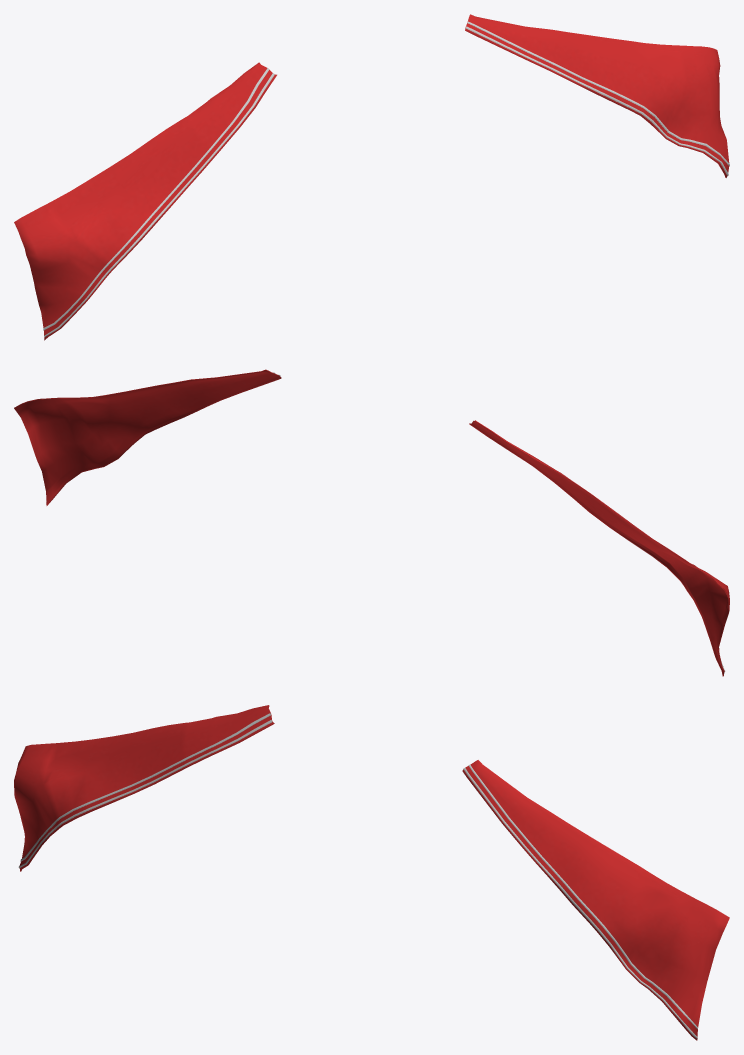
The model's file is Jac_Decor_Top_V1.glb.
3 views of the same model, one above another, from view 1: azimuth 30°, elevation 25°; view 2: azimuth 150°, elevation 25°; view 3: azimuth 330°, elevation 25° (orthographic).
Parts seen in each view (by area): view 1: Jac_Decor_Top.001, Jac_Rope_Decor_Top.001; view 2: Jac_Decor_Top.001; view 3: Jac_Decor_Top.001, Jac_Rope_Decor_Top.001.
Boxes of the visible parts, <box> form: Jac_Decor_Top.001: <box>14,14,729,340</box>; Jac_Rope_Decor_Top.001: <box>43,21,729,337</box>; Jac_Decor_Top.001: <box>14,369,729,676</box>; Jac_Decor_Top.001: <box>14,705,729,1040</box>; Jac_Rope_Decor_Top.001: <box>18,713,697,1038</box>.
Bounding box in the file's own units: 0.7444 × 0.213 × 0.0608.
Materials: 2 (2 with a texture image).
